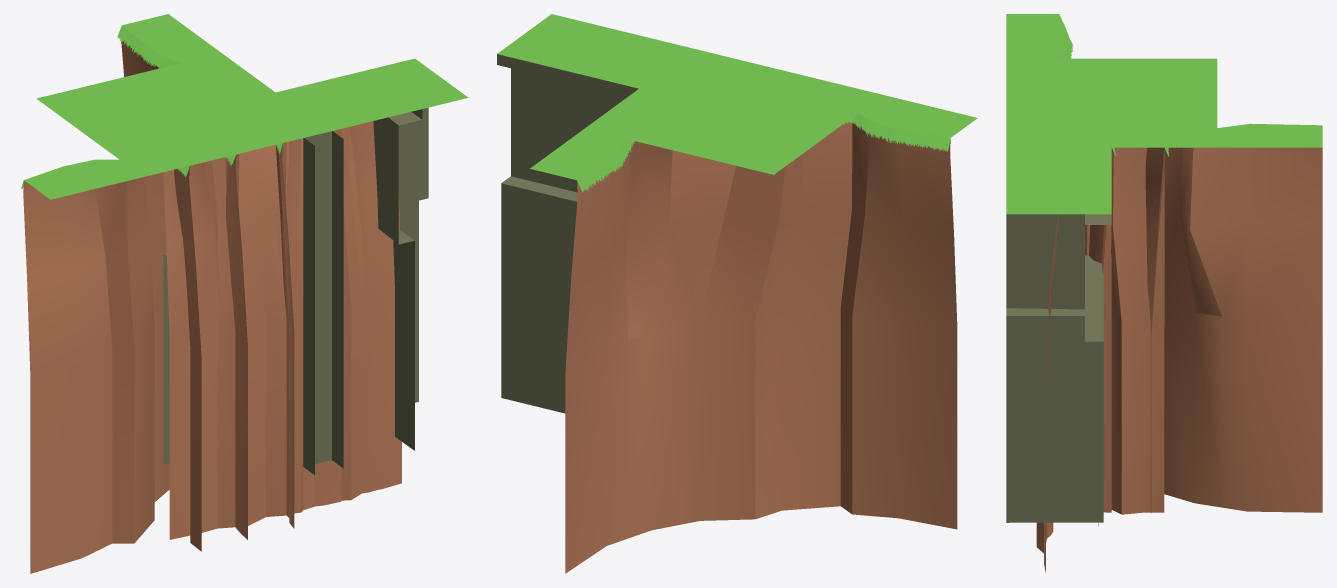
File: environment-cliffs.fbx
3 renders of one model, left to right at view 1: azimuth 30°, elevation 25°; view 2: azimuth 150°, elevation 25°; view 3: azimuth 270°, elevation 25°, orthographic. The views are drawn at different scales.
Visible parts, largest first — view 1: model-cliff-corner-inner-6x-01, model-cliff-straight-4x-01, model-cliff-corner-inner-3x-01, model-cliff-straight-3x-01, model-platform-post-01, model-platform-straight-5x-01, model-cliff-straight-2x-02, model-surface-4x, model-cliff-corner-outer-3x-01, model-platform-corner-outer-2x, model-surface-3x, model-cliff-corner-outer-2x-01 (+3 smaller); view 2: model-cliff-corner-inner-6x-01, model-platform-straight-5x-01, model-platform-straight-3x, model-surface-4x, model-surface-3x, model-surface-2x, model-cliff-straight-4x-01, model-platform-corner-outer-2x, model-cliff-corner-outer-3x-01, model-platform-straight-2x, model-cliff-straight-3x-01, model-cliff-straight-2x-02 (+1 smaller); view 3: model-cliff-corner-inner-6x-01, model-platform-corner-outer-2x, model-cliff-corner-inner-3x-01, model-surface-4x, model-cliff-corner-outer-3x-01, model-platform-straight-5x-01, model-platform-straight-3x, model-surface-3x, model-cliff-corner-inner-2x-01, model-cliff-corner-outer-2x-01, model-cliff-straight-4x-01, model-cliff-straight-2x-02 (+2 smaller).
Part boxes in pixels (<box>): model-cliff-corner-inner-6x-01: <box>21,14,313,573</box>; model-cliff-straight-4x-01: <box>212,89,420,528</box>; model-cliff-corner-inner-3x-01: <box>163,73,309,539</box>; model-cliff-straight-3x-01: <box>267,90,421,513</box>; model-platform-post-01: <box>303,131,343,475</box>; model-platform-straight-5x-01: <box>163,64,444,463</box>; model-cliff-straight-2x-02: <box>260,101,375,516</box>; model-surface-4x: <box>36,53,302,176</box>; model-cliff-corner-outer-3x-01: <box>171,73,327,551</box>; model-platform-corner-outer-2x: <box>277,71,422,450</box>; model-surface-3x: <box>110,73,327,165</box>; model-cliff-corner-outer-2x-01: <box>225,92,323,539</box>; model-cliff-corner-inner-6x-01: <box>530,72,977,573</box>; model-platform-straight-5x-01: <box>520,20,770,413</box>; model-platform-straight-3x: <box>497,14,663,412</box>; model-surface-4x: <box>584,72,882,174</box>; model-surface-3x: <box>613,89,811,143</box>; model-surface-2x: <box>640,60,786,109</box>; model-cliff-straight-4x-01: <box>572,25,785,90</box>; model-platform-corner-outer-2x: <box>544,26,663,412</box>; model-cliff-corner-outer-3x-01: <box>612,53,813,122</box>; model-platform-straight-2x: <box>548,85,606,412</box>; model-cliff-straight-3x-01: <box>572,26,715,72</box>; model-cliff-straight-2x-02: <box>619,37,737,75</box>; model-cliff-corner-inner-6x-01: <box>1006,14,1322,512</box>; model-platform-corner-outer-2x: <box>1006,148,1111,522</box>; model-cliff-corner-inner-3x-01: <box>1006,81,1164,514</box>; model-surface-4x: <box>1006,58,1217,147</box>; model-cliff-corner-outer-3x-01: <box>1006,81,1169,513</box>; model-platform-straight-5x-01: <box>1006,92,1111,330</box>; model-platform-straight-3x: <box>1006,148,1111,341</box>; model-surface-3x: <box>1007,80,1164,147</box>; model-cliff-corner-inner-2x-01: <box>1006,103,1111,512</box>; model-cliff-corner-outer-2x-01: <box>1006,103,1116,526</box>; model-cliff-straight-4x-01: <box>1006,103,1066,572</box>; model-cliff-straight-2x-02: <box>1006,125,1061,169</box>.
Size of the model in its own units: 1803 by 1600 by 1200.
